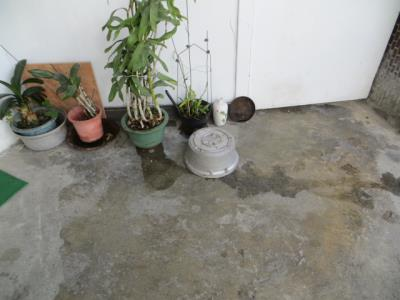bottle: (211, 96, 229, 128)
bowl: (181, 123, 245, 182), (10, 114, 69, 152)
plate: (64, 117, 122, 151), (228, 94, 258, 126)
